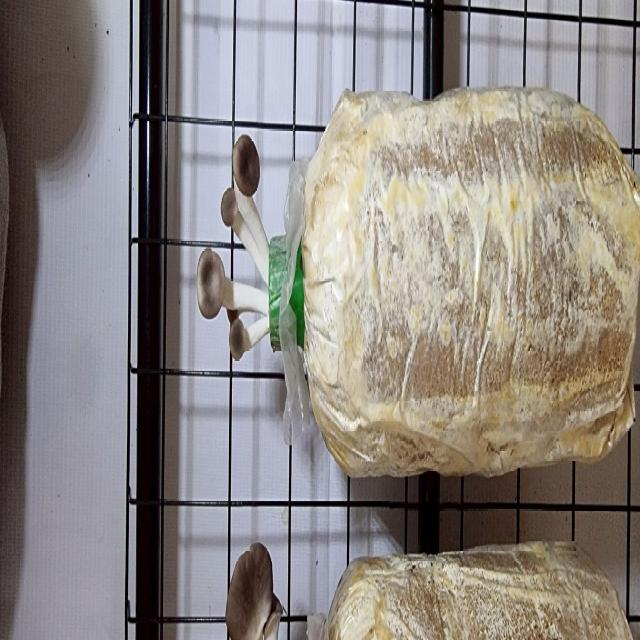normal: (215, 178, 277, 285), (196, 243, 273, 326), (235, 128, 265, 215)
